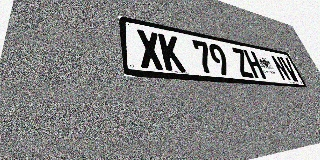7: (191, 39, 217, 75)
9: (207, 43, 233, 76)
H: (243, 49, 266, 79)
K: (158, 33, 186, 72)
N: (270, 55, 292, 81)
V: (279, 56, 300, 82)
X: (136, 29, 165, 70)
Z: (230, 47, 255, 78)
